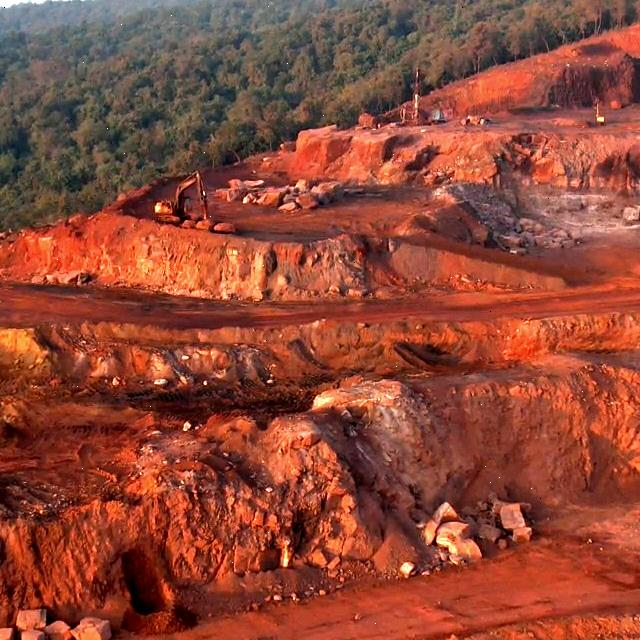Excavator: (155, 197, 191, 225)
